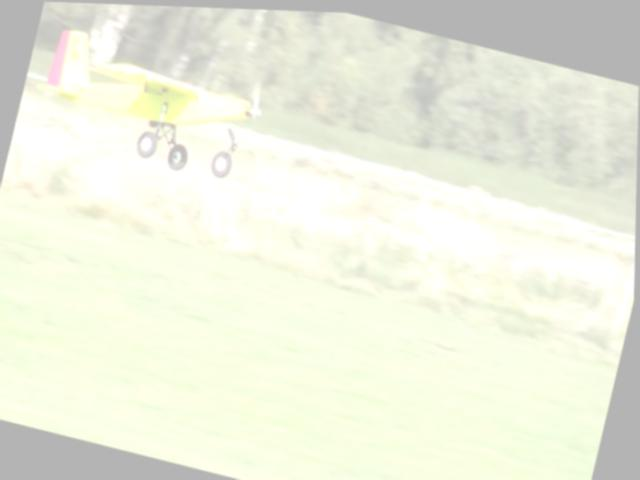plane: (19, 21, 271, 187)
